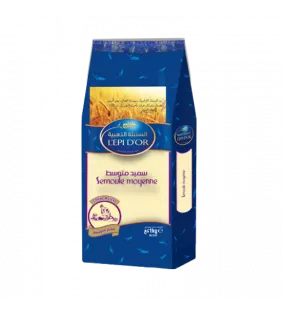L'EPI D'OR: (76, 36, 204, 275)
